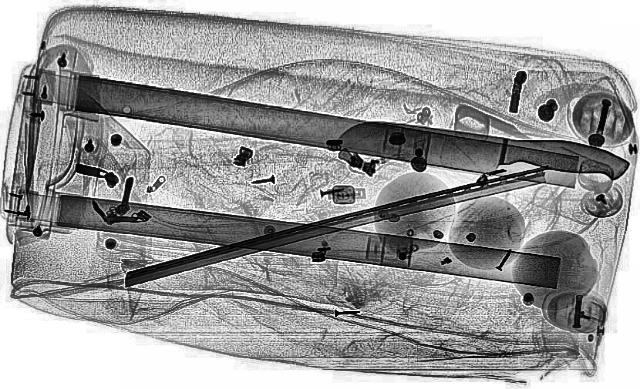Knife: (328, 113, 634, 191)
